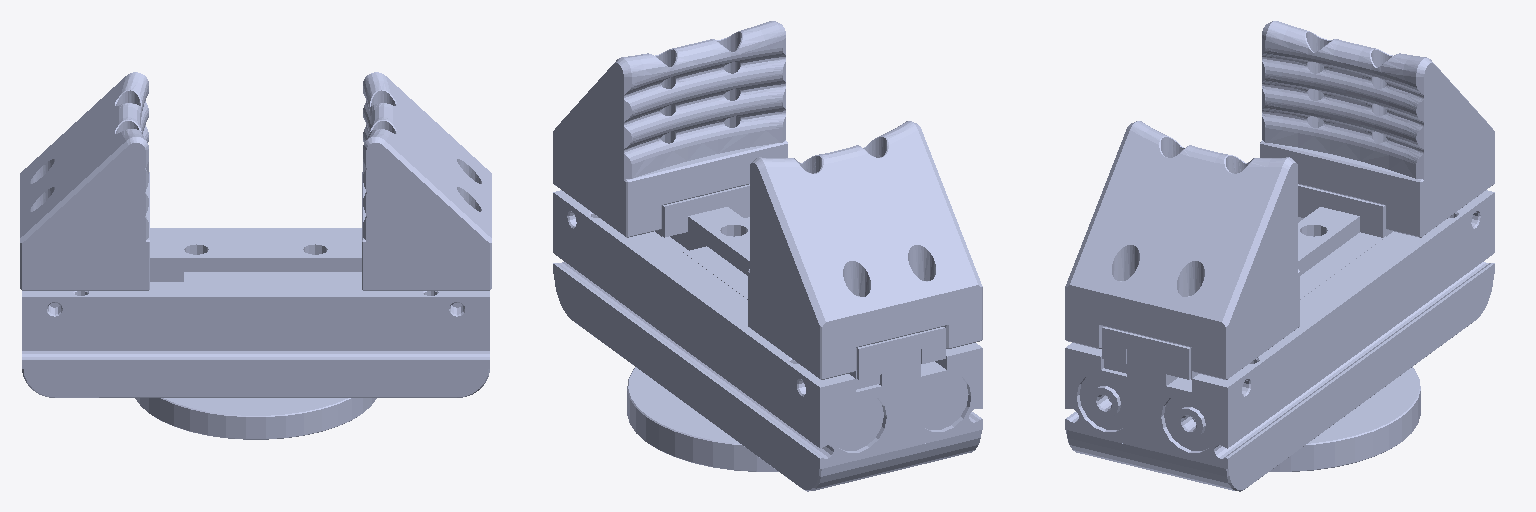
URDF robot description (6AR-000-000.SLDASM):
<?xml version="1.0" encoding="utf-8"?>
<!-- This URDF was automatically created by SolidWorks to URDF Exporter! Originally created by
[author] ([email redacted]) 
     Commit Version: 1.6.0-4-g7f85cfe  Build Version: 1.6.7995.38578
     For more information, please see http://wiki.ros.org/sw_urdf_exporter -->
<robot
  name="6AR-000-000.SLDASM">
  <link
    name="base_link">
    <inertial>
      <origin
        xyz="9.4427E-08 -0.051344 0.096089"
        rpy="0 0 0" />
      <mass
        value="9.0567" />
      <inertia
        ixx="0.042997"
        ixy="-2.9449E-07"
        ixz="5.1792E-07"
        iyy="0.042075"
        iyz="1.2326E-05"
        izz="0.05207" />
    </inertial>
    <visual>
      <origin
        xyz="0 0 0"
        rpy="0 0 0" />
      <geometry>
        <mesh
          filename="package://6AR-000-000.SLDASM/meshes/base_link.STL" />
      </geometry>
      <material
        name="">
        <color
          rgba="0.79216 0.81961 0.93333 1" />
      </material>
    </visual>
    <collision>
      <origin
        xyz="0 0 0"
        rpy="0 0 0" />
      <geometry>
        <mesh
          filename="package://6AR-000-000.SLDASM/meshes/base_link.STL" />
      </geometry>
    </collision>
  </link>
  <link
    name="link_1">
    <inertial>
      <origin
        xyz="-0.003301 0.022054 0.30664"
        rpy="0 0 0" />
      <mass
        value="8.7964" />
      <inertia
        ixx="0.036513"
        ixy="-2.9066E-05"
        ixz="-2.3146E-05"
        iyy="0.027672"
        iyz="-0.0048406"
        izz="0.031325" />
    </inertial>
    <visual>
      <origin
        xyz="0 0 0"
        rpy="0 0 0" />
      <geometry>
        <mesh
          filename="package://6AR-000-000.SLDASM/meshes/link_1.STL" />
      </geometry>
      <material
        name="">
        <color
          rgba="0.89804 0.91765 0.92941 1" />
      </material>
    </visual>
    <collision>
      <origin
        xyz="0 0 0"
        rpy="0 0 0" />
      <geometry>
        <mesh
          filename="package://6AR-000-000.SLDASM/meshes/link_1.STL" />
      </geometry>
    </collision>
  </link>
  <joint
    name="J1"
    type="revolute">
    <origin
      xyz="0 0 0"
      rpy="0 0 0" />
    <parent
      link="base_link" />
    <child
      link="link_1" />
    <axis
      xyz="0 0 1" />
    <limit upper="2.4958"
      lower="-0.6458"
      effort="0"
      velocity="0" />
  </joint>
  <link
    name="link_2">
    <inertial>
      <origin
        xyz="0.2169 0.00082547 0.00036157"
        rpy="0 0 0" />
      <mass
        value="8.3761" />
      <inertia
        ixx="0.013891"
        ixy="-0.00025496"
        ixz="8.1876E-07"
        iyy="0.071569"
        iyz="-4.8466E-09"
        izz="0.065074" />
    </inertial>
    <visual>
      <origin
        xyz="0 0 0"
        rpy="0 0 0" />
      <geometry>
        <mesh
          filename="package://6AR-000-000.SLDASM/meshes/link_2.STL" />
      </geometry>
      <material
        name="">
        <color
          rgba="0.69804 0.69804 0.69804 1" />
      </material>
    </visual>
    <collision>
      <origin
        xyz="0 0 0"
        rpy="0 0 0" />
      <geometry>
        <mesh
          filename="package://6AR-000-000.SLDASM/meshes/link_2.STL" />
      </geometry>
    </collision>
  </link>
  <joint
    name="J2"
    type="revolute">
    <origin
      xyz="0 0.069821 0.41795"
      rpy="1.5708 -1.5708 0" />
    <parent
      link="link_1" />
    <child
      link="link_2" />
    <axis
      xyz="0 1 0" />
    <limit lower="-0.1745"
      upper="2.7925"
      effort="0"
      velocity="0" />
  </joint>
  <link
    name="link_3">
    <inertial>
      <origin
        xyz="0.146597337643137 0.01274729181288 0.000125662802040738"
        rpy="0 0 0" />
      <mass
        value="8.22461514710084" />
      <inertia
        ixx="0.0258530361348422"
        ixy="0.000373880072639089"
        ixz="2.19399007002521E-08"
        iyy="0.0135889096511292"
        iyz="8.21462735334343E-07"
        izz="0.0249802911175337" />
    </inertial>
    <visual>
      <origin
        xyz="0 0 0"
        rpy="0 0 0" />
      <geometry>
        <mesh
          filename="package://6AR-000-000.SLDASM/meshes/link_3.STL" />
      </geometry>
      <material
        name="">
        <color
          rgba="0.776470588235294 0.756862745098039 0.737254901960784 1" />
      </material>
    </visual>
    <collision>
      <origin
        xyz="0 0 0"
        rpy="0 0 0" />
      <geometry>
        <mesh
          filename="package://6AR-000-000.SLDASM/meshes/link_3.STL" />
      </geometry>
    </collision>
  </link>
  <joint
    name="J3"
    type="revolute">
    <origin
      xyz="0.48086 -0.00725 -0.00025"
      rpy="0 0 0" />
    <parent
      link="link_2" />
    <child
      link="link_3" />
    <axis
      xyz="0 1 0" />
    <limit lower="-2.1817"
      upper="2.1817"
      effort="0"
      velocity="0" />
  </joint>
  <link
    name="link_4">
    <inertial>
      <origin
        xyz="-0.000925868383406997 -0.0933340549347172 -3.60294000560923E-05"
        rpy="0 0 0" />
      <mass
        value="1.29096890606006" />
      <inertia
        ixx="0.00297629908645567"
        ixy="-4.88014587957115E-05"
        ixz="9.35663906222329E-08"
        iyy="0.0019705978468814"
        iyz="3.22602643352993E-07"
        izz="0.00369190430433723" />
    </inertial>
    <visual>
      <origin
        xyz="0 0 0"
        rpy="0 0 0" />
      <geometry>
        <mesh
          filename="package://6AR-000-000.SLDASM/meshes/link_4.STL" />
      </geometry>
      <material
        name="">
        <color
          rgba="0.776470588235294 0.756862745098039 0.737254901960784 1" />
      </material>
    </visual>
    <collision>
      <origin
        xyz="0 0 0"
        rpy="0 0 0" />
      <geometry>
        <mesh
          filename="package://6AR-000-000.SLDASM/meshes/link_4.STL" />
      </geometry>
    </collision>
  </link>
  <joint
    name="J4"
    type="revolute">
    <origin
      xyz="0.4325 0.0082275 0.00081267"
      rpy="0 0 -1.5708" />
    <parent
      link="link_3" />
    <child
      link="link_4" />
    <axis
      xyz="0 1 0" />
    <limit
      lower="-3.05433"
      upper="3.05433"
      effort="0"
      velocity="0" />
  </joint>
  <link
    name="link_5">
    <inertial>
      <origin
        xyz="0.0248751773236708 -0.000314746986010528 0.000854219368679214"
        rpy="0 0 0" />
      <mass
        value="1.25357968887558" />
      <inertia
        ixx="0.00104435958627982"
        ixy="-6.27550929450669E-06"
        ixz="1.52917660581255E-10"
        iyy="0.00194584621562462"
        iyz="-3.32683186016601E-07"
        izz="0.00164744592016516" />
    </inertial>
    <visual>
      <origin
        xyz="0 0 0"
        rpy="0 0 0" />
      <geometry>
        <mesh
          filename="package://6AR-000-000.SLDASM/meshes/link_5.STL" />
      </geometry>
      <material
        name="">
        <color
          rgba="0.647058823529412 0.619607843137255 0.588235294117647 1" />
      </material>
    </visual>
    <collision>
      <origin
        xyz="0 0 0"
        rpy="0 0 0" />
      <geometry>
        <mesh
          filename="package://6AR-000-000.SLDASM/meshes/link_5.STL" />
      </geometry>
    </collision>
  </link>
  <joint
    name="J5"
    type="revolute">
    <origin
      xyz="0 0 0"
      rpy="1.5708 0 1.5708" />
    <parent
      link="link_4" />
    <child
      link="link_5" />
    <axis
      xyz="0 0 -1" />
    <limit
      lower="-2.0944"
      upper="2.0944"
      effort="0"
      velocity="0" />
  </joint>
  <link
    name="link_6">
    <inertial>
      <origin
        xyz="-7.97268647185687E-06 -3.79303712860768E-06 0.150756038415997"
        rpy="0 0 0" />
      <mass
        value="0.458329056094842" />
      <inertia
        ixx="0.000208755990862895"
        ixy="0.000135398525868741"
        ixz="-1.16912747940316E-08"
        iyy="0.000366559362562791"
        iyz="-1.41833335260991E-08"
        izz="0.000524488251965292" />
    </inertial>
    <visual>
      <origin
        xyz="0 0 0"
        rpy="0 0 0" />
      <geometry>
        <mesh
          filename="package://6AR-000-000.SLDASM/meshes/link_6.STL" />
      </geometry>
      <material
        name="">
        <color
          rgba="0.792156862745098 0.819607843137255 0.933333333333333 1" />
      </material>
    </visual>
    <collision>
      <origin
        xyz="0 0 0"
        rpy="0 0 0" />
      <geometry>
        <mesh
          filename="package://6AR-000-000.SLDASM/meshes/link_6.STL" />
      </geometry>
    </collision>
  </link>
  <joint
    name="J6"
    type="revolute">
    <origin
      xyz="0 0 0"
      rpy="0 1.5708 0" />
    <parent
      link="link_5" />
    <child
      link="link_6" />
    <axis
      xyz="0 0 -1" />
    <limit lower="-3.0107"
      upper="3.0107"
      effort="0"
      velocity="0" />
  </joint>
</robot>

--- What the picture shows (computed from the rendered views, not written in the file) ---
Views: 3 orthographic renders of the robot side by side, from view 1: azimuth 30°, elevation 25°; view 2: azimuth 150°, elevation 25°; view 3: azimuth 270°, elevation 25°.
Robot: 6AR-000-000.SLDASM — 7 links, 6 joints (6 revolute); root link base_link; default pose: every joint at zero.
Links seen in each view (by area): view 1: link_6; view 2: link_6; view 3: link_6.
Link boxes in pixels (x1,y1,x2,y2): link_6: (20,72,491,439); link_6: (553,21,982,491); link_6: (1065,21,1494,491).
Size in the robot's own frame: 0.1482 by 0.1143 by 0.1048 metres.
Meshes: 7 distinct files referenced, 1 mesh visuals loaded (1 binary STL); not drawn: 6 (reference not matched to a file when rendering).